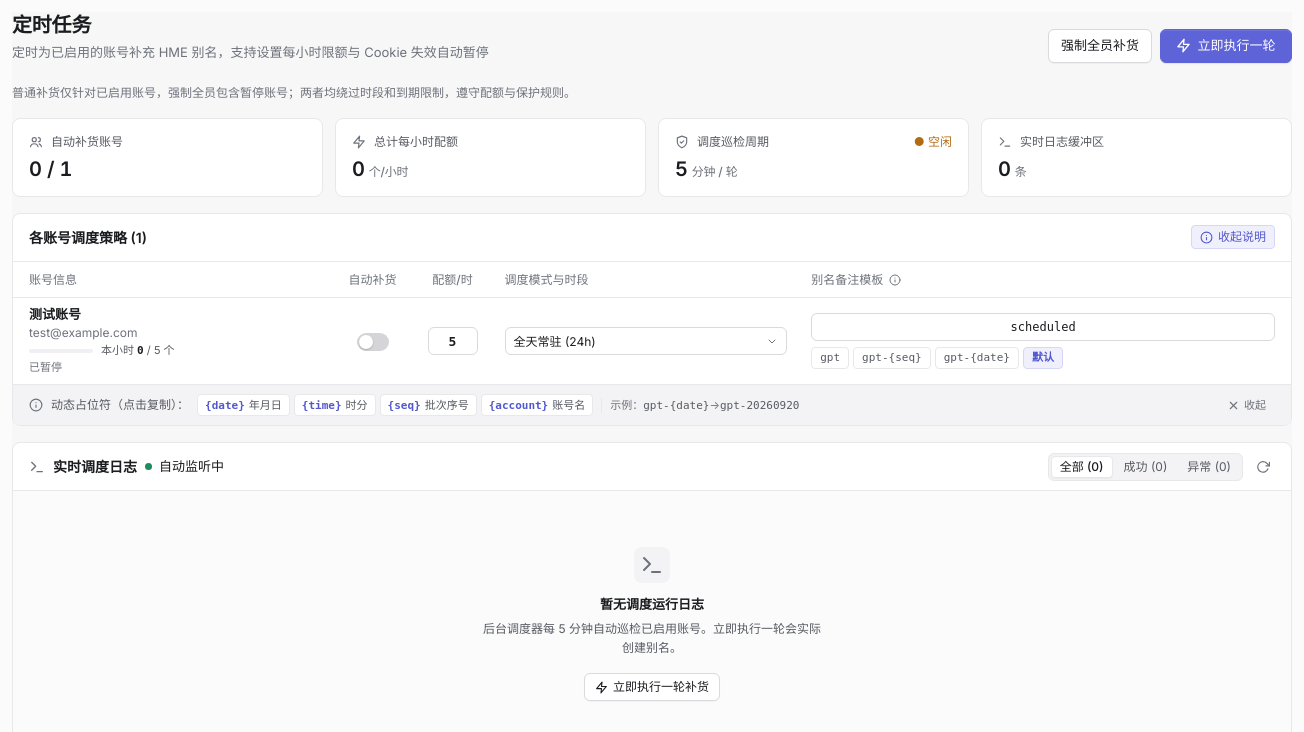
Scenario: 触发后服务端仍空闲则如实展示，触发失败=true 也恢复读取和编辑
Click the button "立即执行一轮" at (1226, 46), box [1160,29,1292,63]
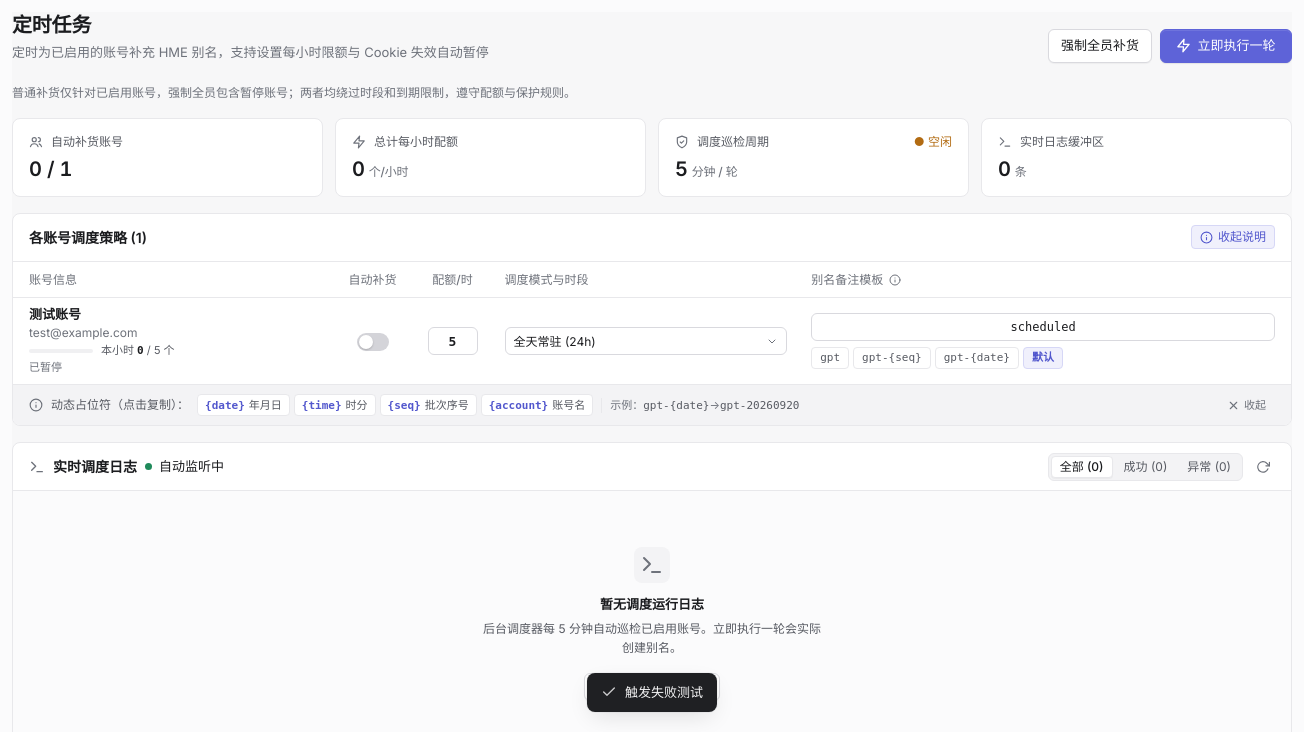
Expected: the text "● 空闲" is shown, [914,133,952,151]
Expected: the text "触发失败测试" is shown, [625,682,703,702]
